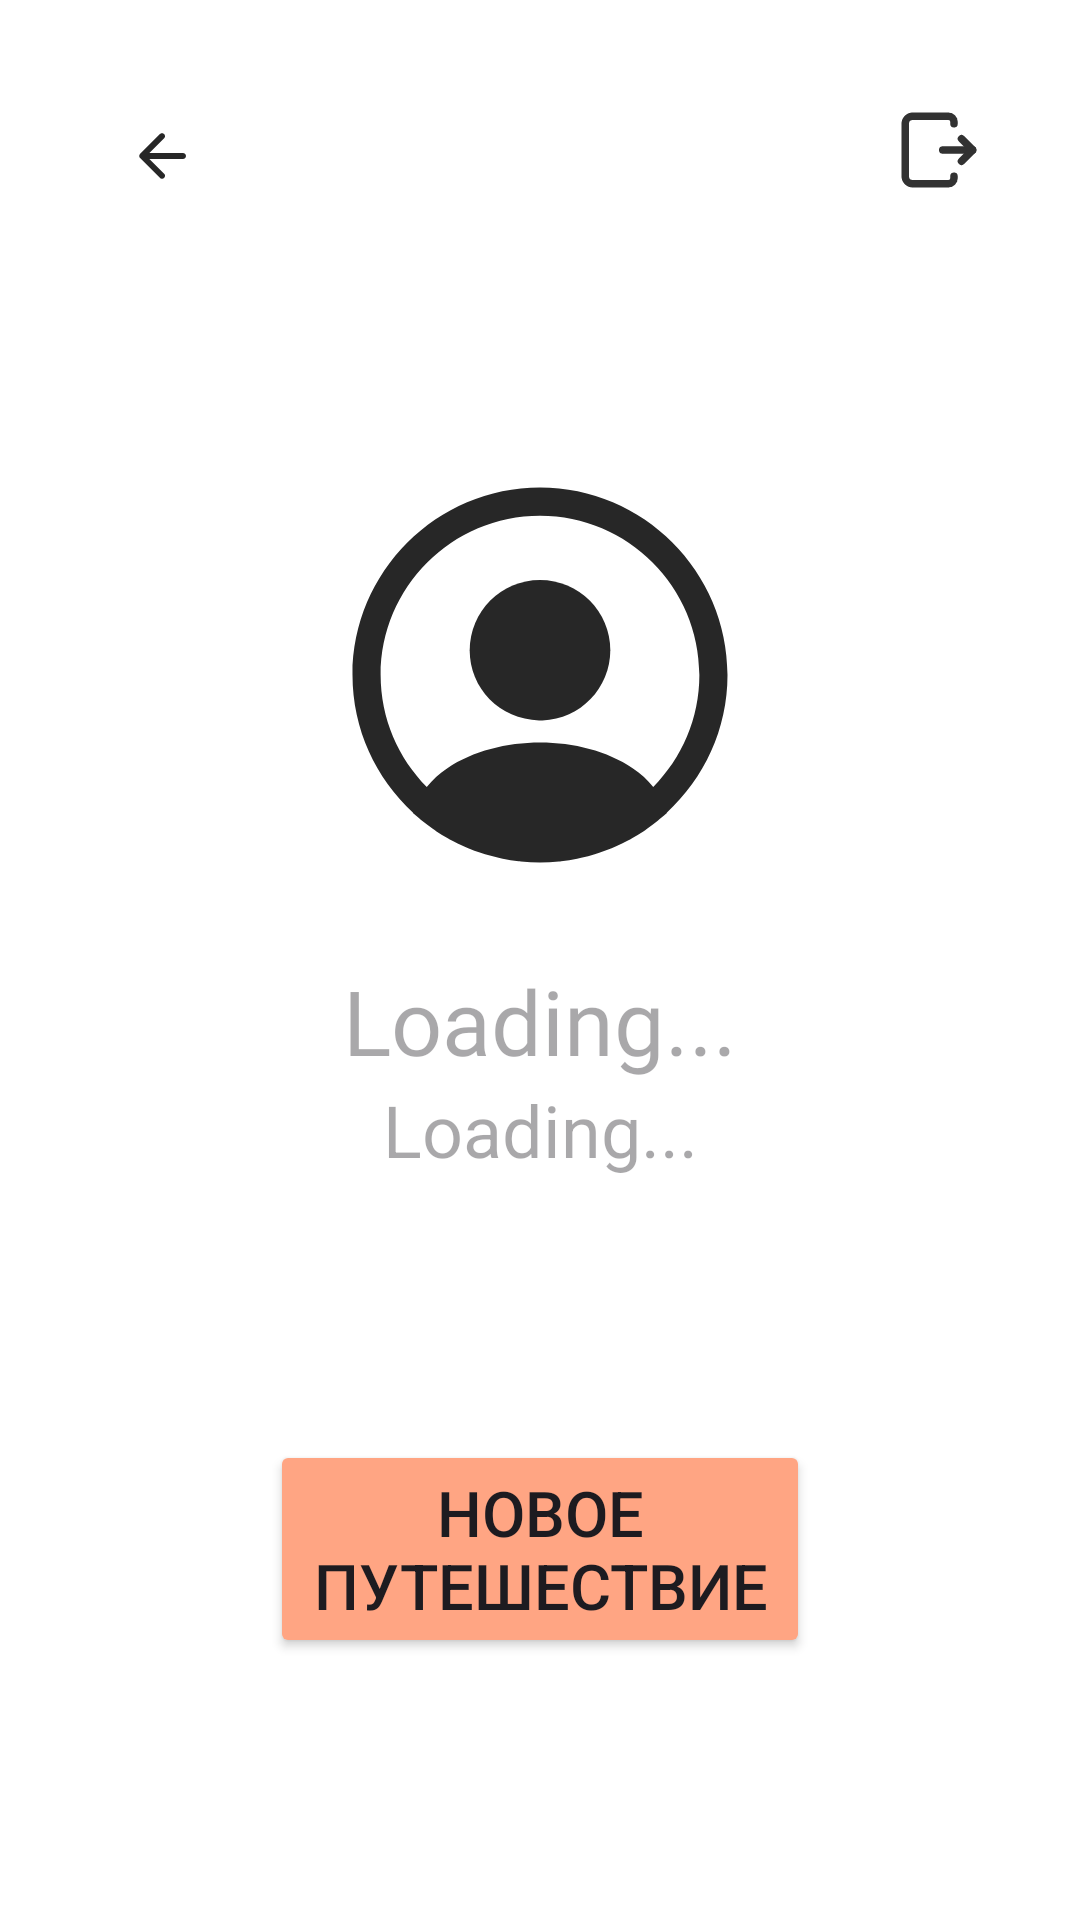

Where icons sit on this 1080w x 1920h app screen, as (x1, y1, x2, y2):
arrow back: (139, 133, 186, 179)
